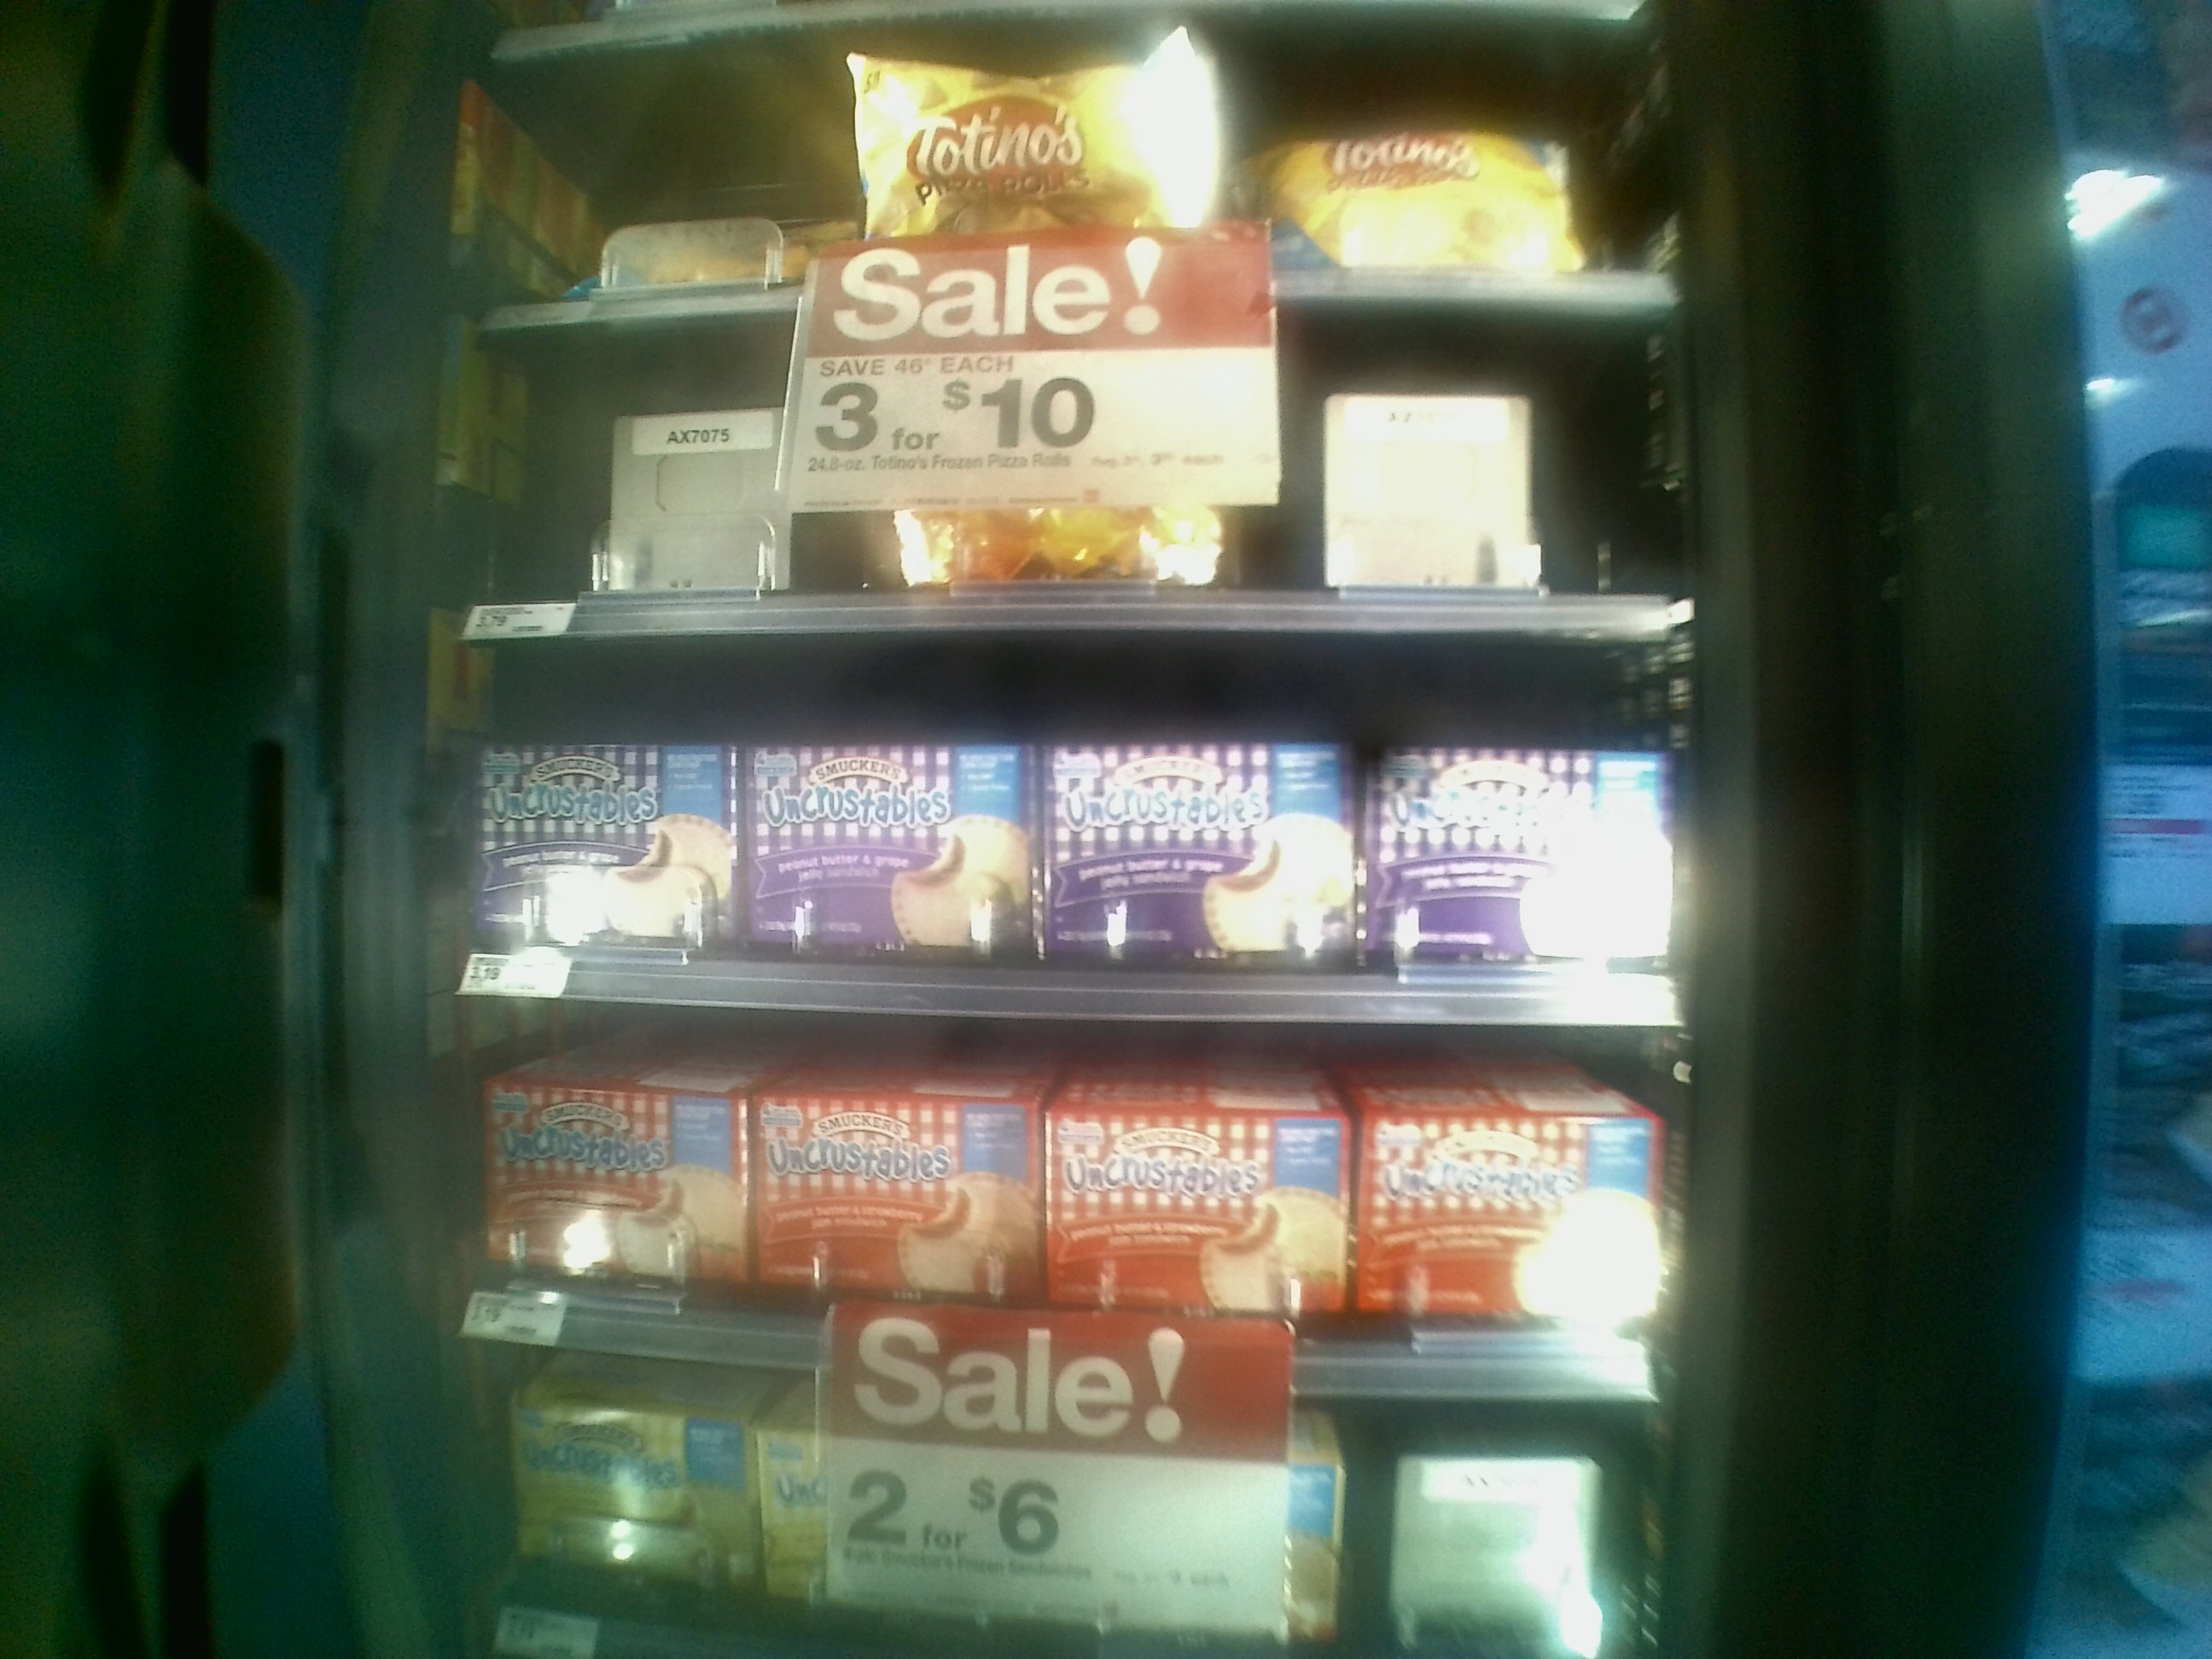shelf: (413, 1000, 1663, 1410), (420, 647, 1679, 1044), (446, 333, 1684, 660)
